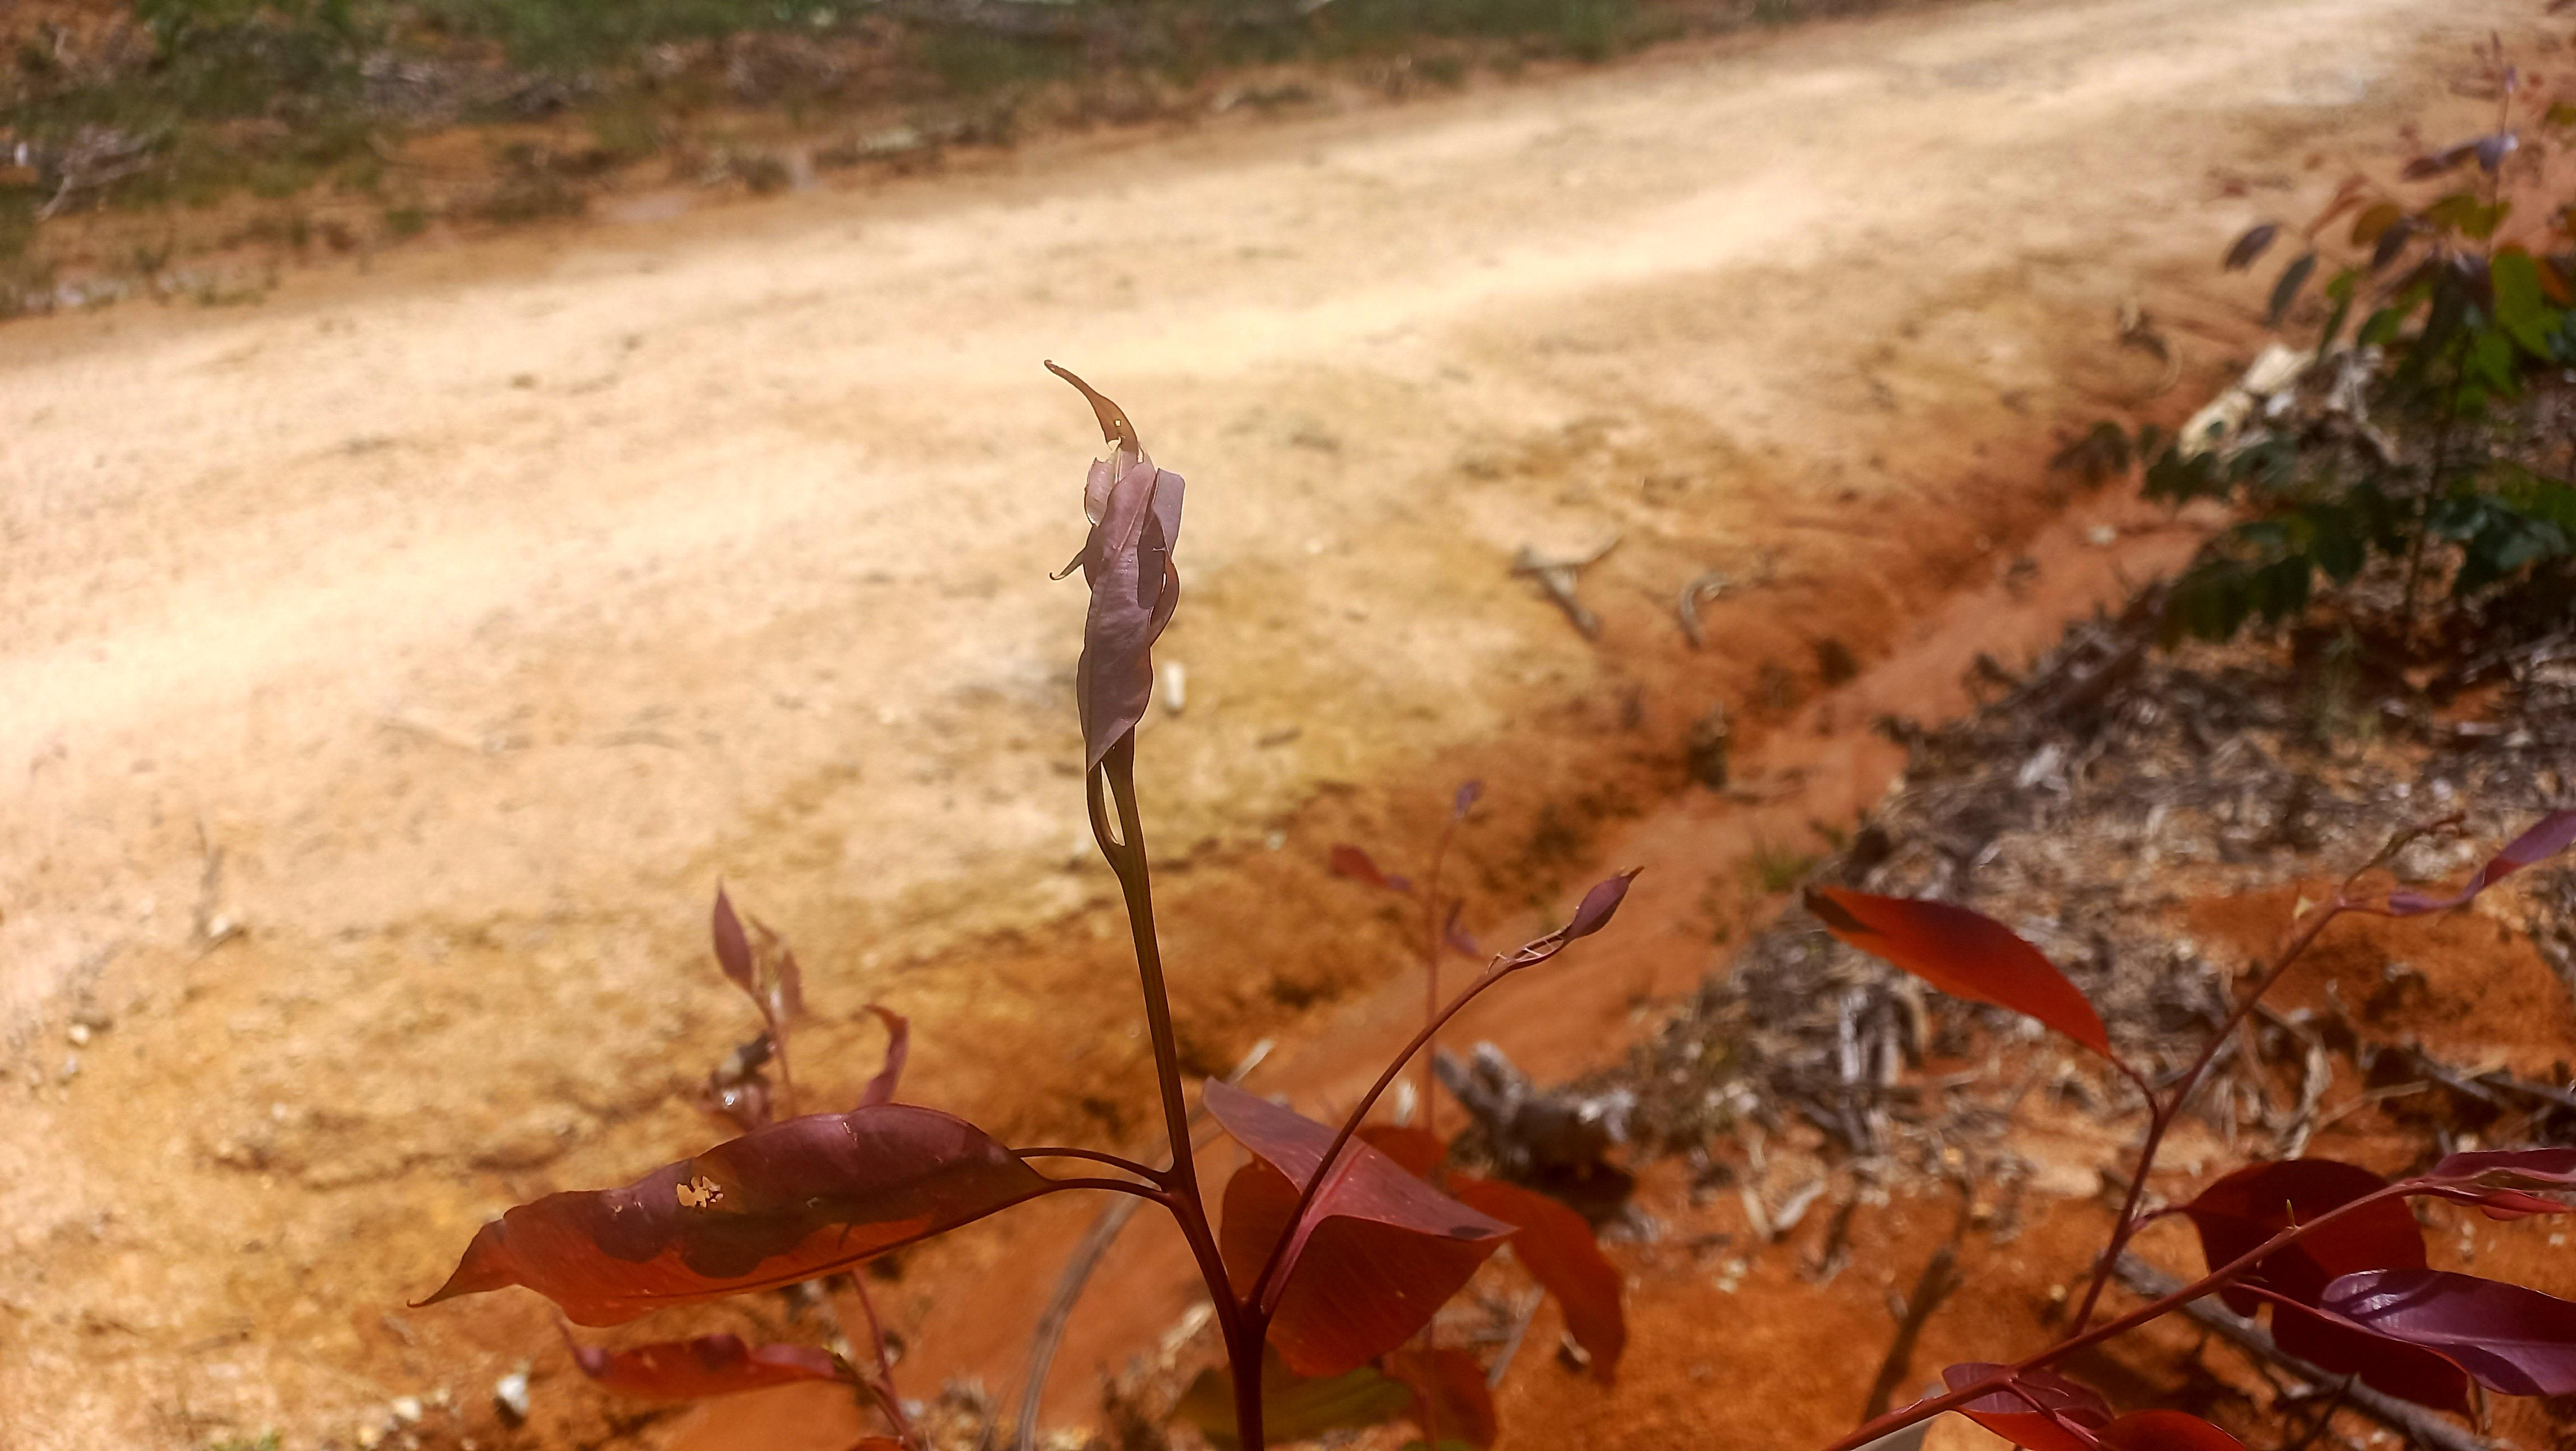Leaf Roller - Leaf: (425, 1115, 1058, 1304), (1028, 359, 1198, 779), (1516, 862, 1617, 959), (711, 1032, 773, 1086)
